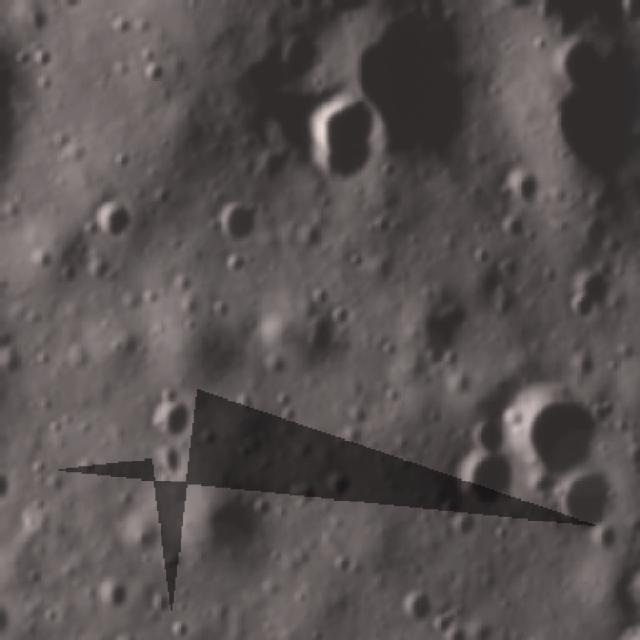crater: (349, 12, 485, 154), (185, 477, 280, 578), (296, 86, 376, 192), (503, 391, 599, 478), (536, 465, 618, 547), (404, 292, 482, 376), (452, 444, 520, 508), (552, 265, 610, 329), (145, 390, 203, 448), (296, 308, 344, 368), (82, 195, 142, 242), (204, 203, 262, 249), (119, 511, 168, 557), (506, 160, 548, 212), (94, 576, 140, 619), (421, 603, 470, 640), (394, 581, 431, 628), (496, 208, 530, 246), (142, 59, 176, 87), (0, 462, 12, 515)
